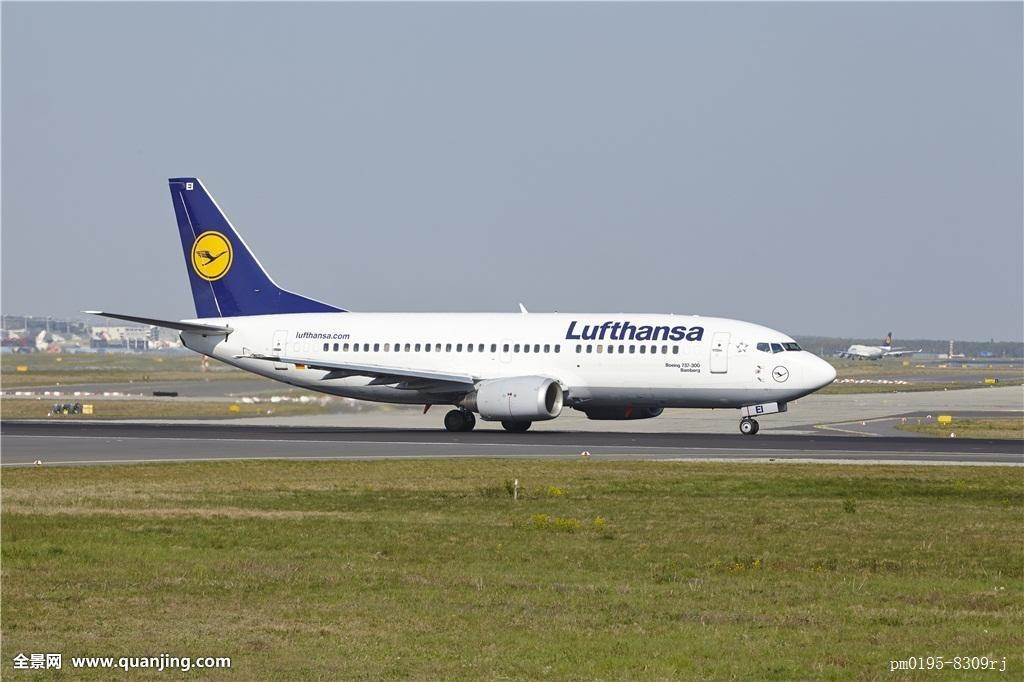airplane: (77, 168, 844, 435)
